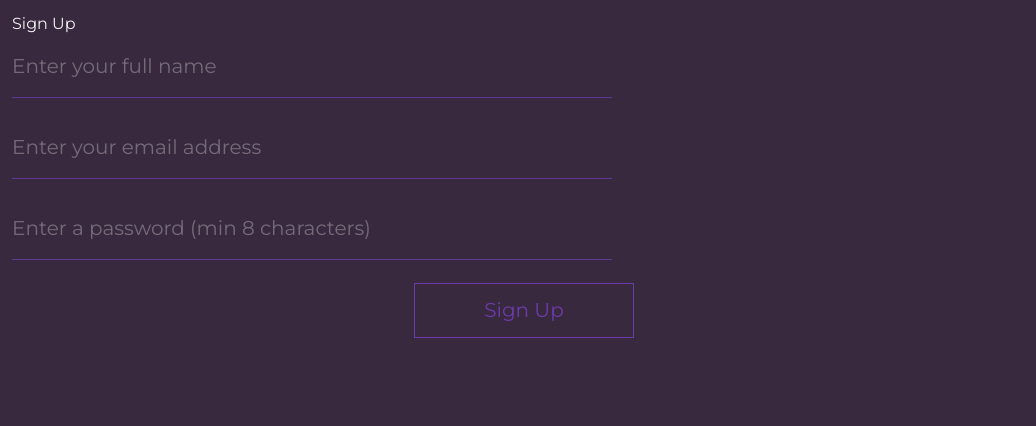
Scenario: SignUpForm › handles sign up error
Type "Test User" into the field named "Name:". click: x=312, y=67
box: [12,36,612,98]
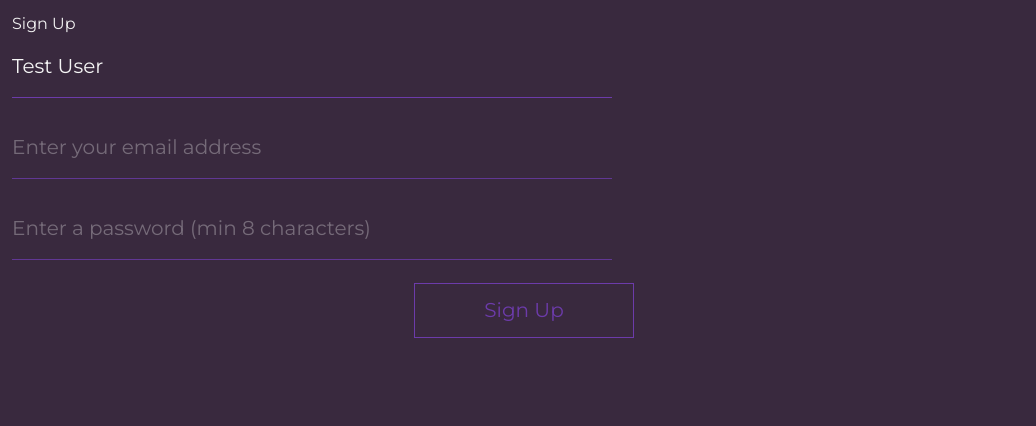
Type "existing@example.com" into the field named "Email:". click: x=312, y=148
box: [12,117,612,179]
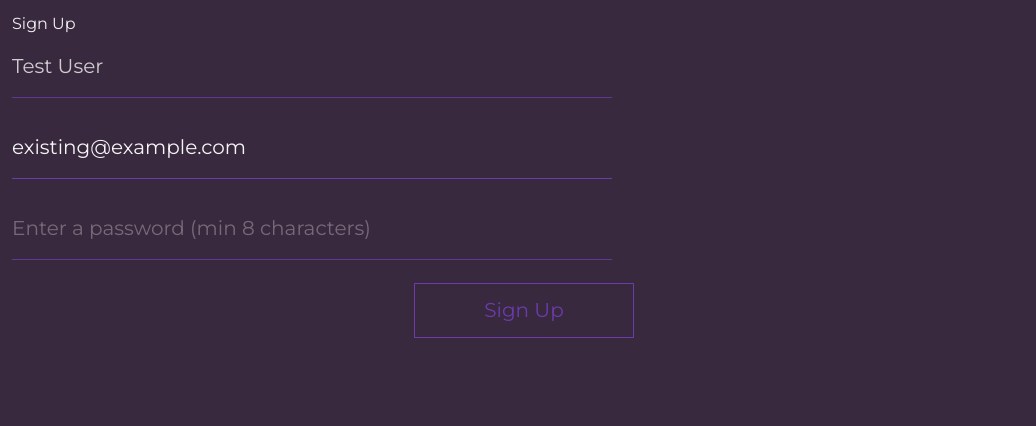
Type "password123" into the password field named "Password:". click: x=312, y=229
box: [12,198,612,260]
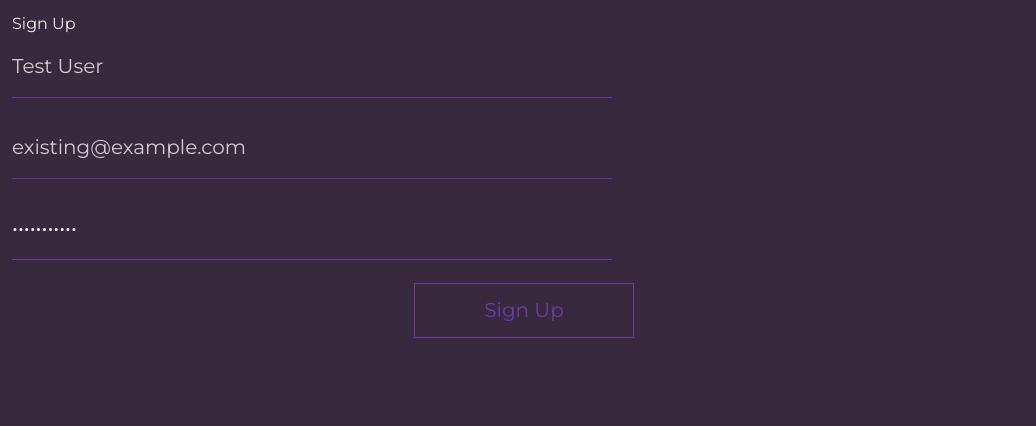
Click the button "Sign Up". click: x=524, y=310
box: [414,283,634,338]
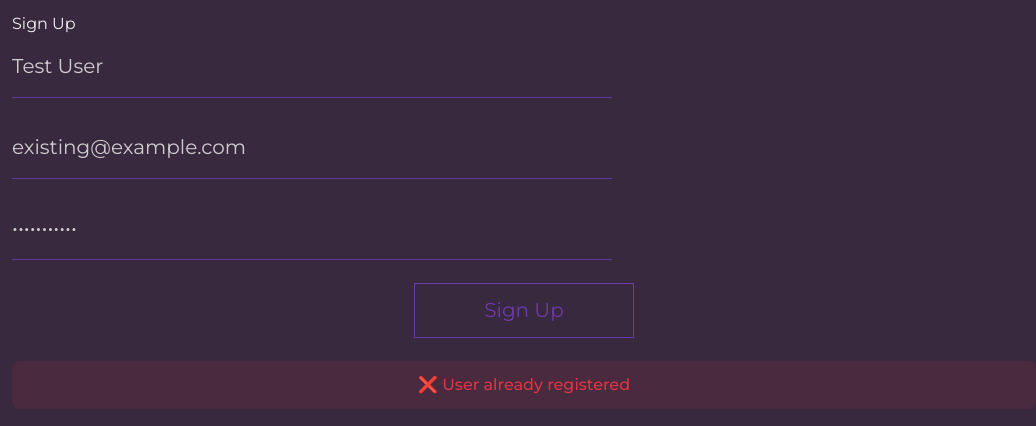
Result: the text "User already registered" is shown at [442,375,630,394]
